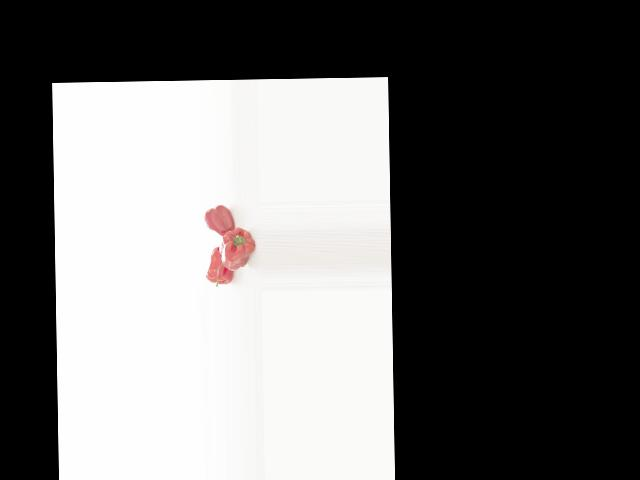bell_pepper: (203, 203, 236, 234)
